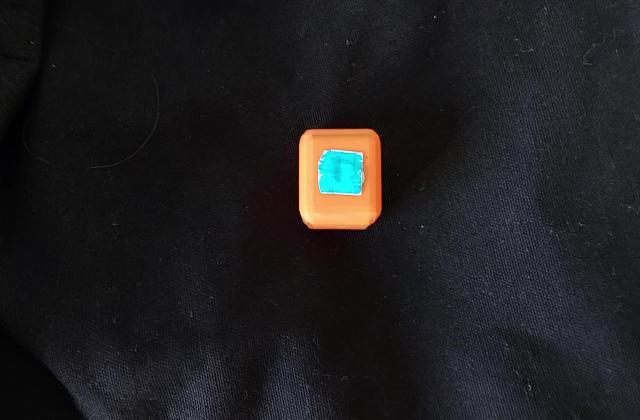blue: (322, 154, 358, 190)
sticker: (295, 127, 384, 234)
